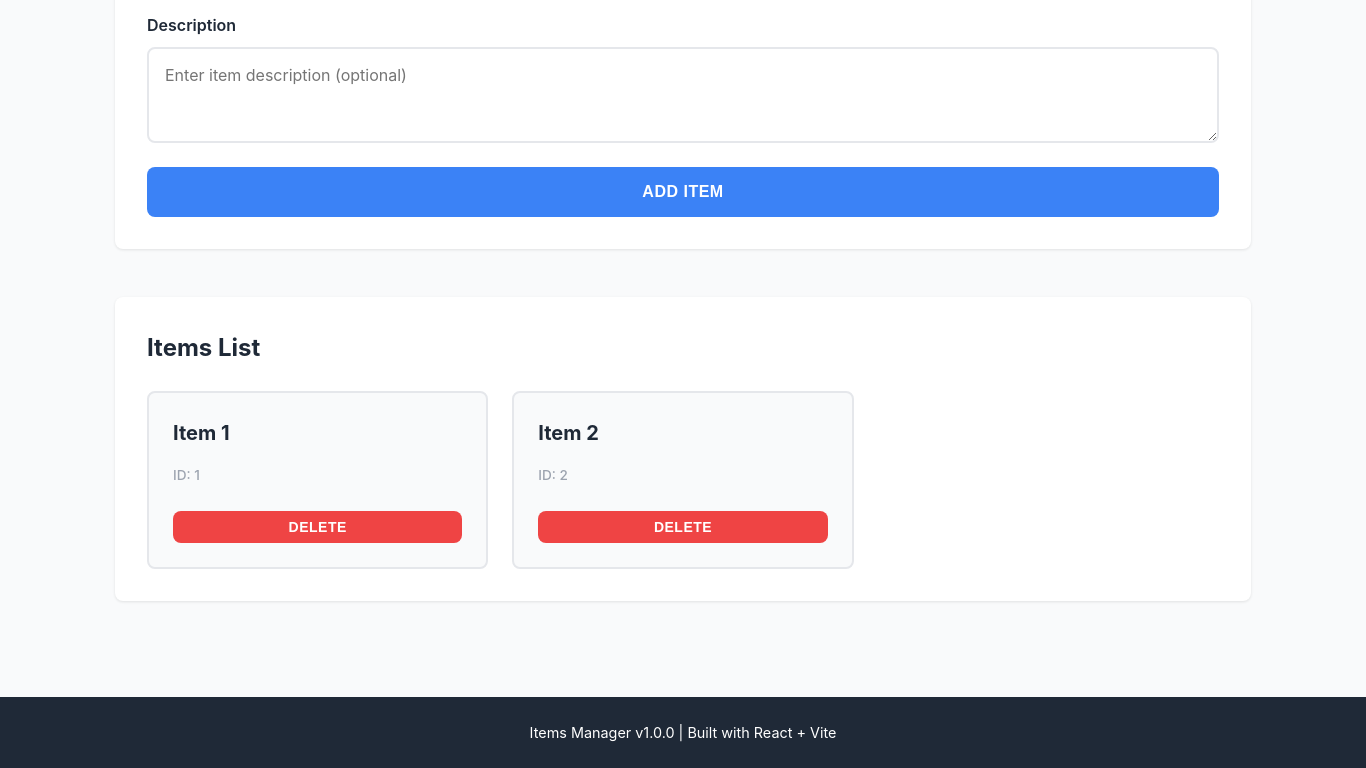
Scenario: App Component › Delete Item Functionality › should remove only the deleted item from list
(page scrolled)
Expected: the heading "Item 1" is shown, [173,421,230,445]
Expected: the heading "Item 2" is shown, [538,421,599,445]
Click the button with test id "delete-button-1" at (318, 527), box [173,511,462,543]
(page scrolled)
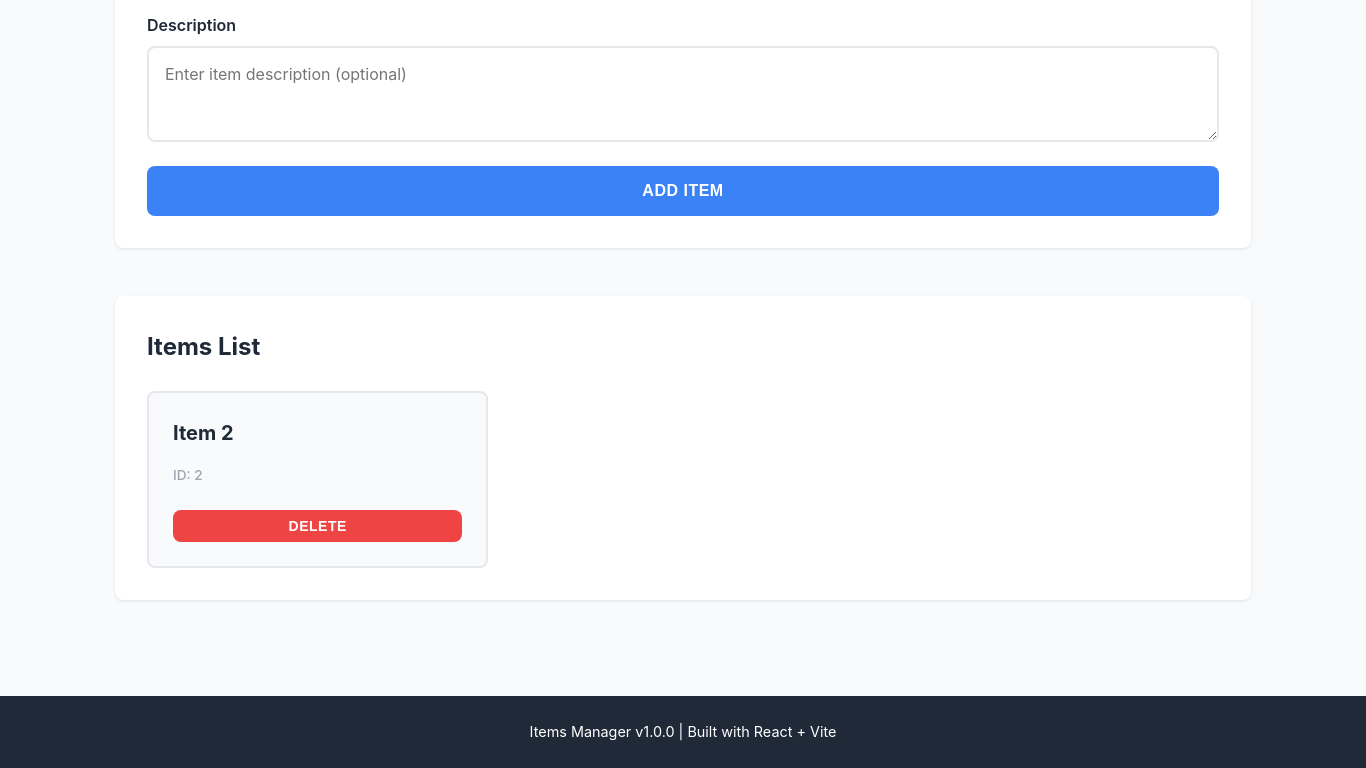
Expected: the heading "Item 2" is shown, [173,421,234,445]
Now the heading "Item 1" is gone
